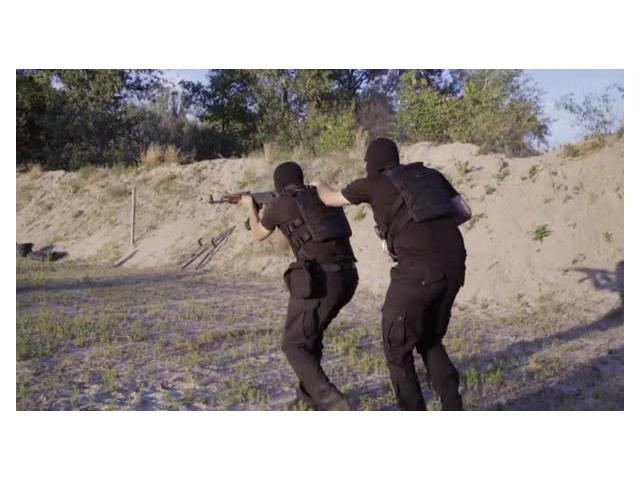rifle: (211, 184, 287, 234)
